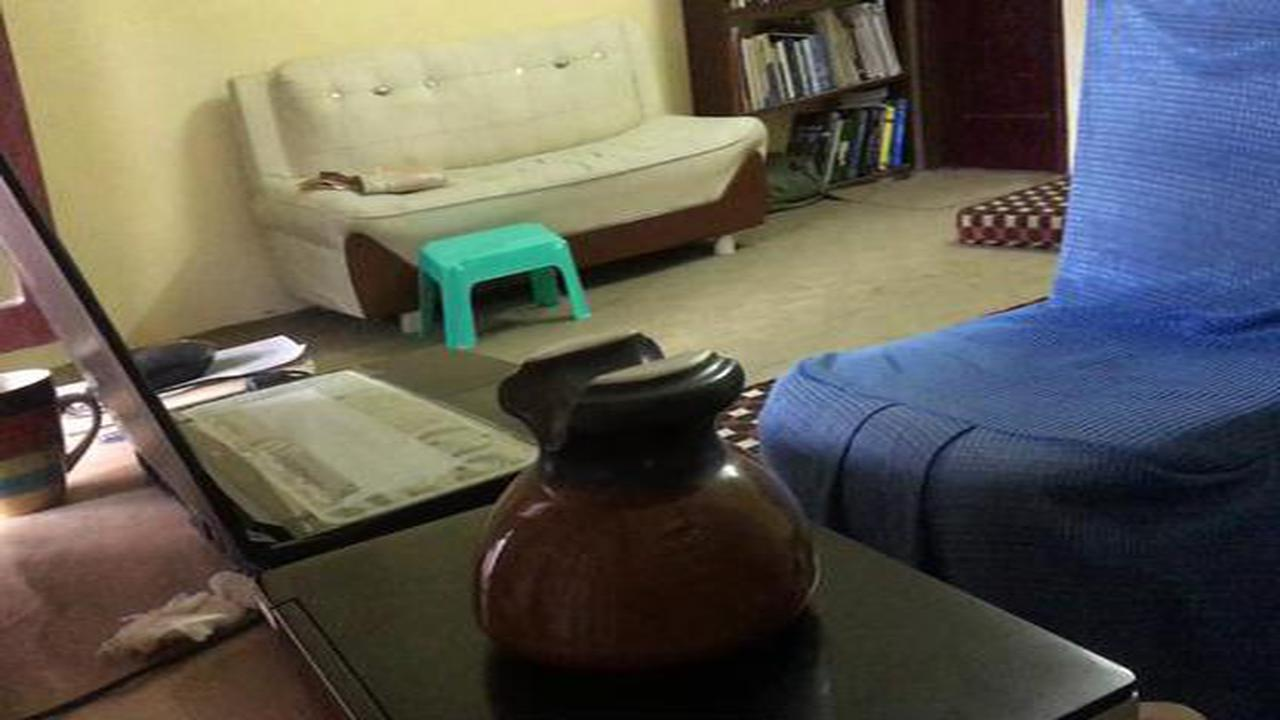insulator_pin: (434, 319, 859, 679)
